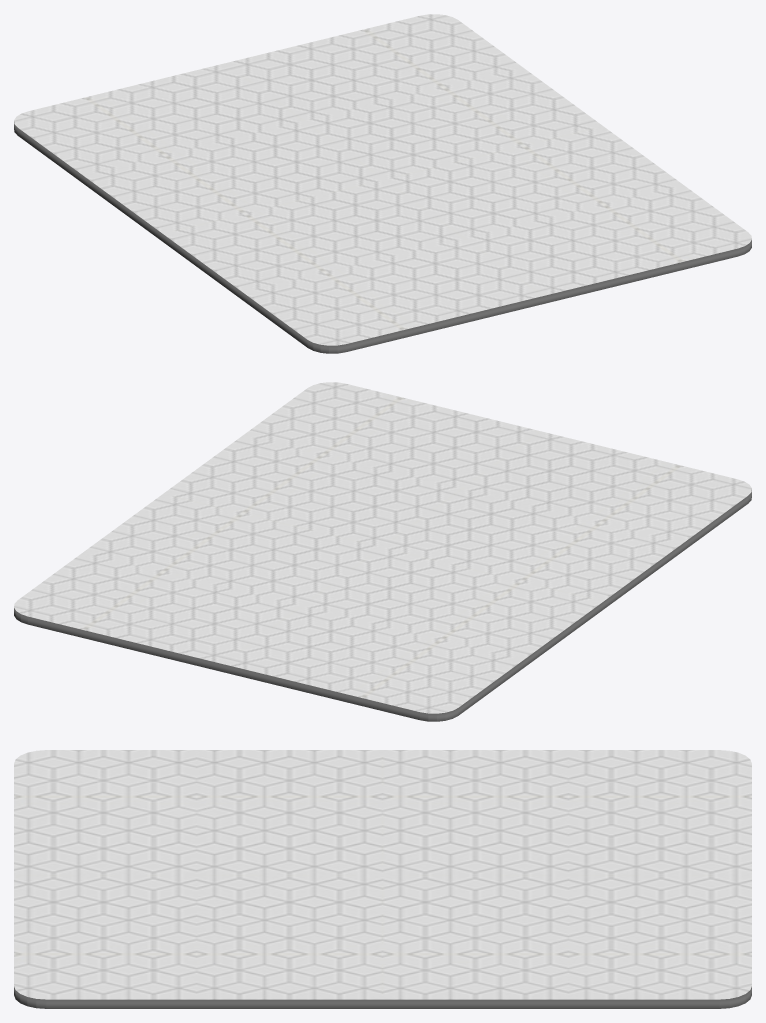
The model's file is floor.fbx.
3 renders of one model, top to bottom at view 1: azimuth 30°, elevation 25°; view 2: azimuth 150°, elevation 25°; view 3: azimuth 270°, elevation 25°, orthographic. The views are drawn at different scales.
Parts seen in each view (by area): view 1: floor; view 2: floor; view 3: floor.
Part boxes in pixels (left/top/right/bottom): floor: left=14, top=14, right=751, bottom=353; floor: left=14, top=382, right=751, bottom=721; floor: left=14, top=750, right=751, bottom=1008.
Bounding box in the file's own units: 425 × 7.45 × 532.
1 material, 1 textured.
